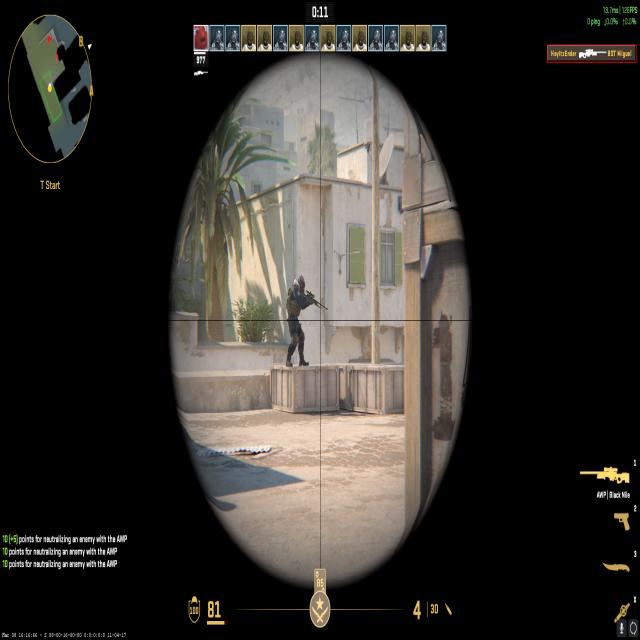ct: (279, 260, 320, 376)
